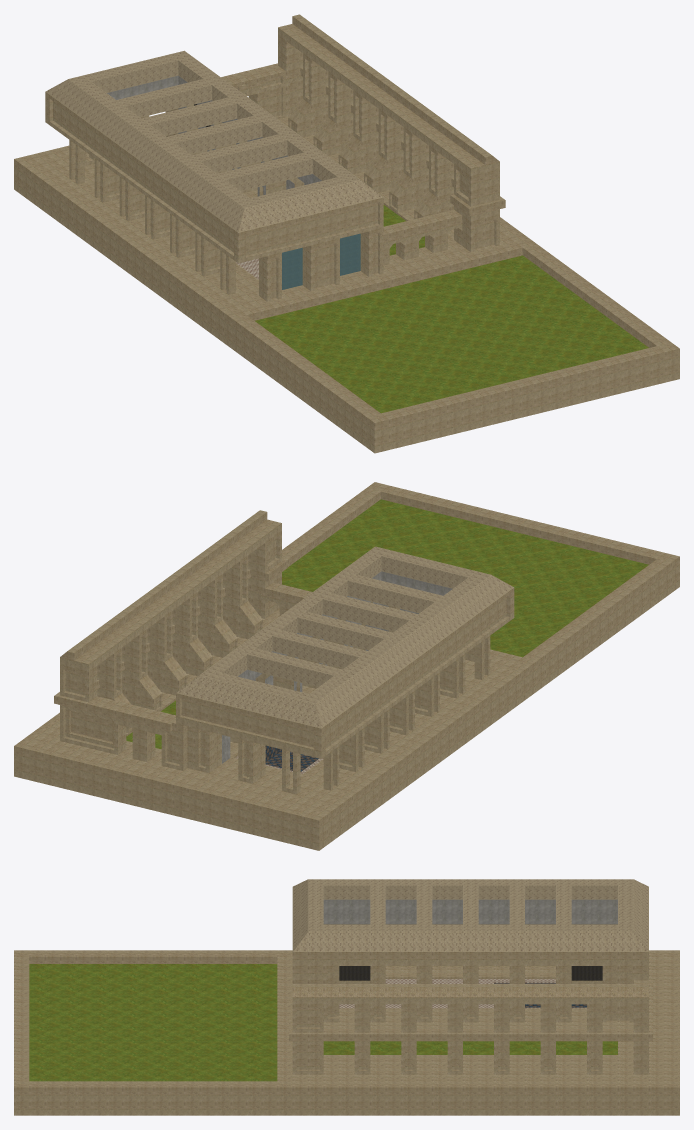
The model's file is b293_special_blend_lm.glb.
The picture shows the model from 3 angles, top to bottom: view 1: azimuth 30°, elevation 25°; view 2: azimuth 150°, elevation 25°; view 3: azimuth 270°, elevation 25°; orthographic projection. The views are drawn at different scales.
Visible parts, largest first — view 1: BRUTAL_0002_0; view 2: BRUTAL_0002_0; view 3: BRUTAL_0002_0.
Part boxes in pixels (bbox=[...]): BRUTAL_0002_0: bbox=[14, 14, 679, 453]; BRUTAL_0002_0: bbox=[14, 482, 679, 850]; BRUTAL_0002_0: bbox=[14, 879, 679, 1115].
Bounding box in the file's own units: 33.6 × 12.8 × 68.8.
9 materials, 9 textured.
